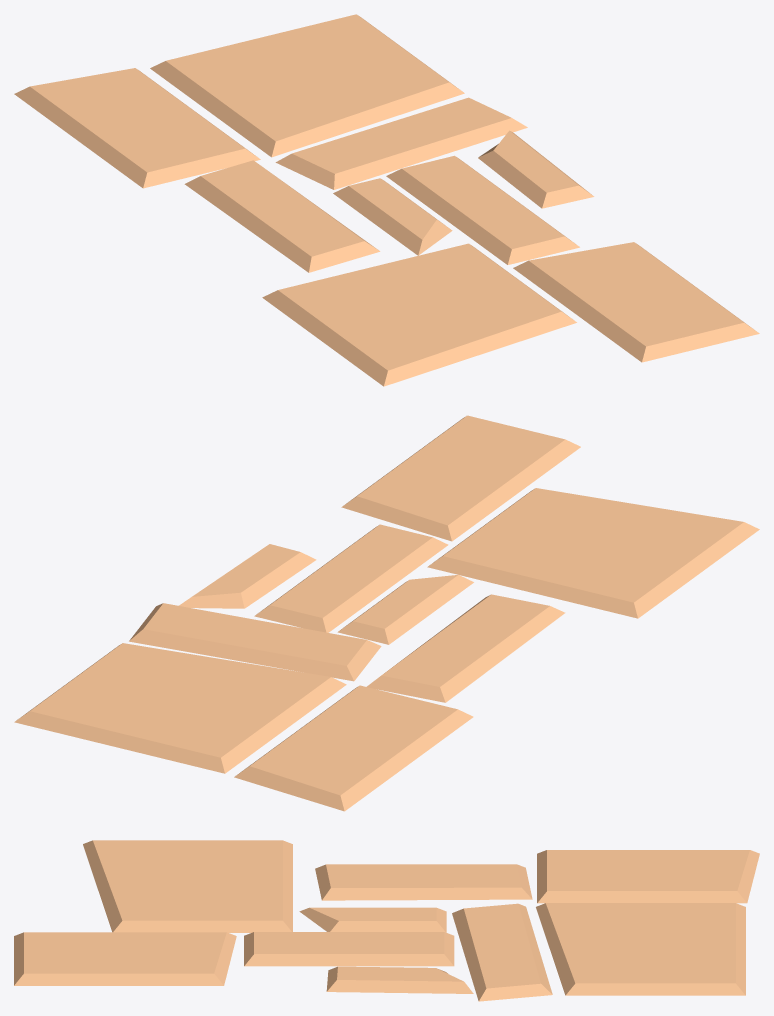
File: Kostki_1.fbx
3 views of the same model, one above another, from view 1: azimuth 30°, elevation 25°; view 2: azimuth 150°, elevation 25°; view 3: azimuth 270°, elevation 25° (orthographic). The views are drawn at different scales.
Visible parts, largest first — view 1: Kostki_1; view 2: Kostki_1; view 3: Kostki_1.
Boxes of the visible parts, <box> form: Kostki_1: <box>14,14,759,386</box>; Kostki_1: <box>14,415,759,811</box>; Kostki_1: <box>14,840,759,1001</box>.
Bounding box in the file's own units: 355 × 9.09 × 710.
